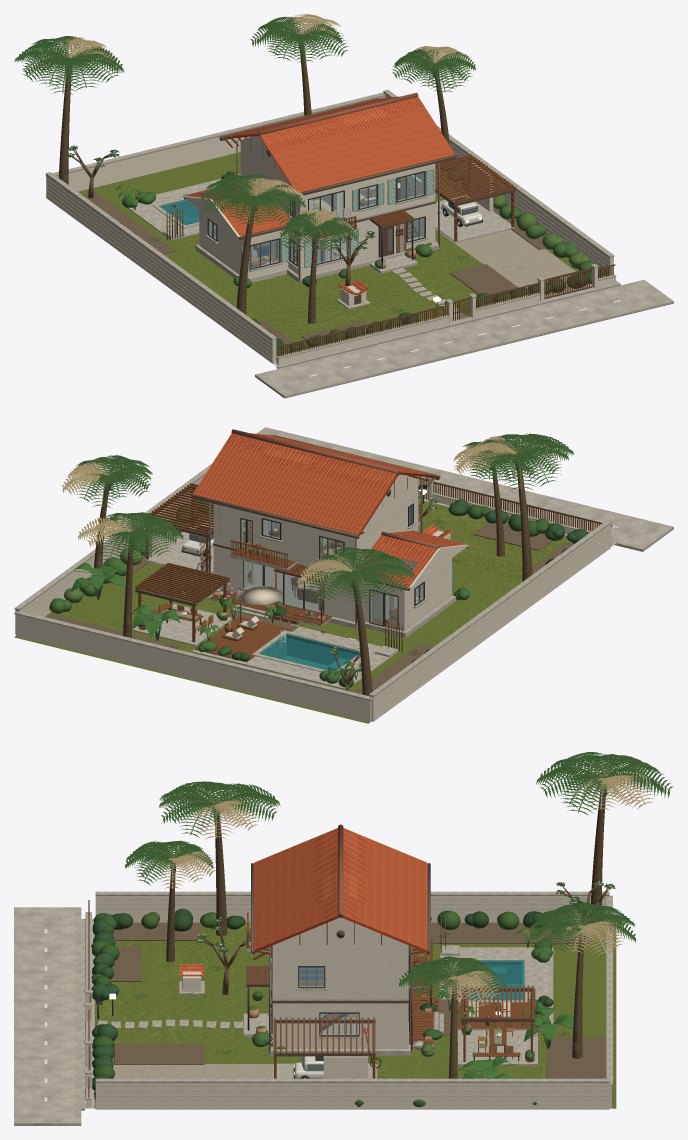
File: lanai_house.glb
3 views of the same model, one above another, from view 1: azimuth 30°, elevation 25°; view 2: azimuth 150°, elevation 25°; view 3: azimuth 270°, elevation 25° (orthographic). The views are drawn at different scales.
Parts seen in each view (by area): view 1: SITE_All, LANDSCAPE_All, ROOF_All, GF_House, F2_House, POOL_All, GF_Trim, GF_Interior, F2_Interior; view 2: SITE_All, LANDSCAPE_All, ROOF_All, GF_House, POOL_All, F2_House, GF_Trim, POOL_Water, GF_Interior, F2_Interior; view 3: SITE_All, LANDSCAPE_All, ROOF_All, F2_House, GF_House, POOL_All, GF_Trim, POOL_Water, F2_Interior.
Part boxes in pixels (<box>): SITE_All: <box>45,90,673,398</box>; LANDSCAPE_All: <box>14,14,606,359</box>; ROOF_All: <box>183,92,456,281</box>; GF_House: <box>195,190,439,282</box>; F2_House: <box>240,142,435,247</box>; POOL_All: <box>121,174,240,240</box>; GF_Trim: <box>292,201,435,267</box>; GF_Interior: <box>251,222,418,267</box>; F2_Interior: <box>294,176,410,221</box>; SITE_All: <box>14,427,673,723</box>; LANDSCAPE_All: <box>49,433,588,696</box>; ROOF_All: <box>191,429,468,627</box>; GF_House: <box>211,527,455,637</box>; POOL_All: <box>191,585,403,689</box>; F2_House: <box>213,481,422,570</box>; GF_Trim: <box>208,505,336,626</box>; POOL_Water: <box>264,637,356,670</box>; GF_Interior: <box>243,532,420,620</box>; F2_Interior: <box>244,520,343,559</box>; SITE_All: <box>14,891,616,1125</box>; LANDSCAPE_All: <box>91,752,673,1107</box>; ROOF_All: <box>251,824,430,1054</box>; F2_House: <box>246,912,428,1000</box>; GF_House: <box>269,987,412,1055</box>; POOL_All: <box>440,913,553,1030</box>; GF_Trim: <box>246,938,443,1049</box>; POOL_Water: <box>465,964,522,999</box>; F2_Interior: <box>298,955,424,986</box>.
Bounding box in the file's own units: 30.12 × 12 × 38.78.
69 materials, 17 textured.
